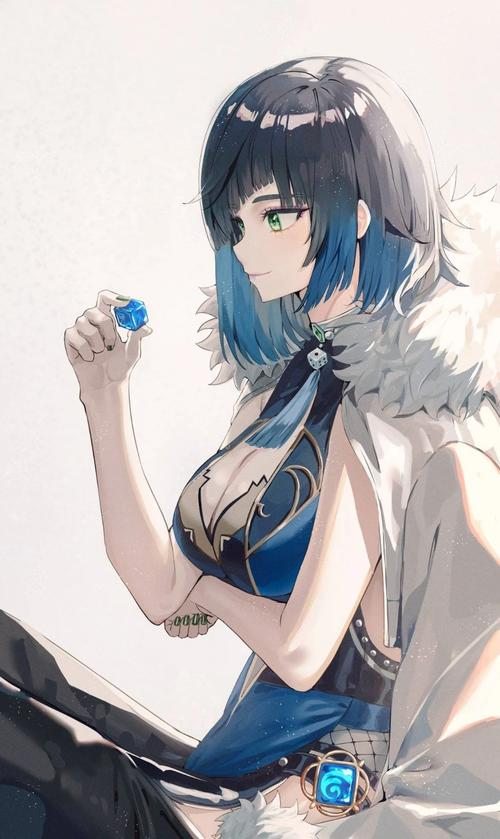夜兰: (1, 51, 498, 839)
